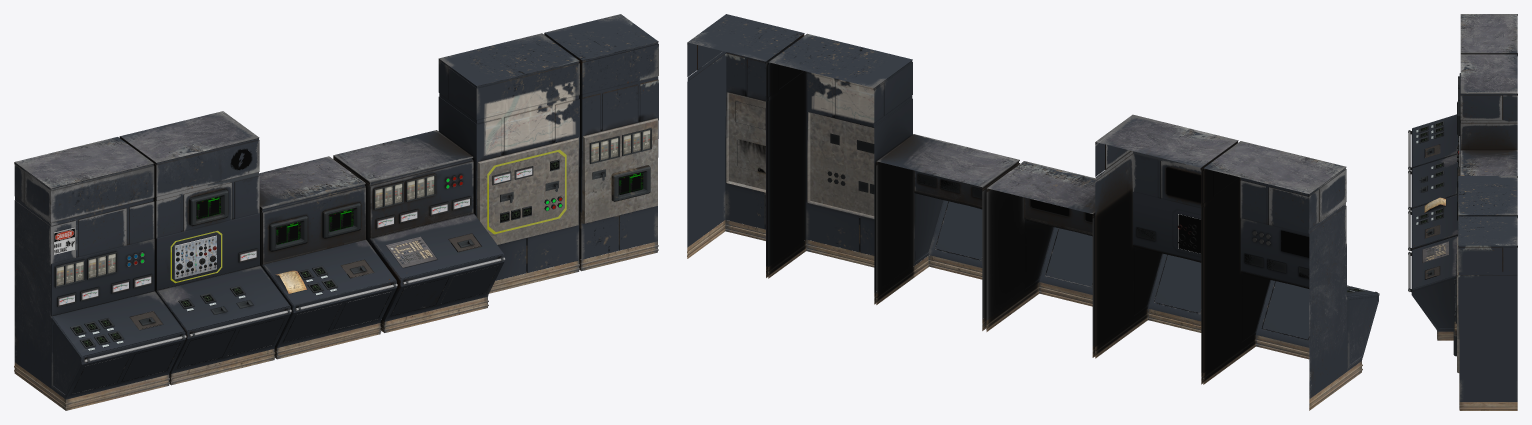
Rendered from electronic_panel.glb.
3 renders of one model, left to right at view 1: azimuth 30°, elevation 25°; view 2: azimuth 150°, elevation 25°; view 3: azimuth 270°, elevation 25°, orthographic. The views are drawn at different scales.
Visible parts, largest first — view 1: Object_16, Object_17, Object_6, Object_15, Object_9, Object_14, Object_5, Object_13, Object_8, Object_11; view 2: Object_16, Object_17; view 3: Object_16, Object_17, Object_15, Object_11, Object_13, Object_12.
Boxes of the visible parts, <box> form: Object_16: <box>14,14,658,410</box>; Object_17: <box>70,118,657,348</box>; Object_6: <box>56,130,650,285</box>; Object_15: <box>84,174,562,362</box>; Object_9: <box>196,172,643,244</box>; Object_14: <box>58,167,532,305</box>; Object_5: <box>175,236,216,279</box>; Object_13: <box>72,161,558,346</box>; Object_8: <box>170,149,566,283</box>; Object_11: <box>386,236,437,267</box>; Object_16: <box>687,14,1378,410</box>; Object_17: <box>726,92,1364,293</box>; Object_16: <box>1408,14,1517,410</box>; Object_17: <box>1419,121,1459,373</box>; Object_15: <box>1408,130,1459,317</box>; Object_11: <box>1422,241,1448,262</box>; Object_13: <box>1420,122,1442,223</box>; Object_12: <box>1424,197,1445,212</box>.
Bounding box in the file's own units: 24.59 × 8.18 × 4.92.
14 materials, 12 textured.
